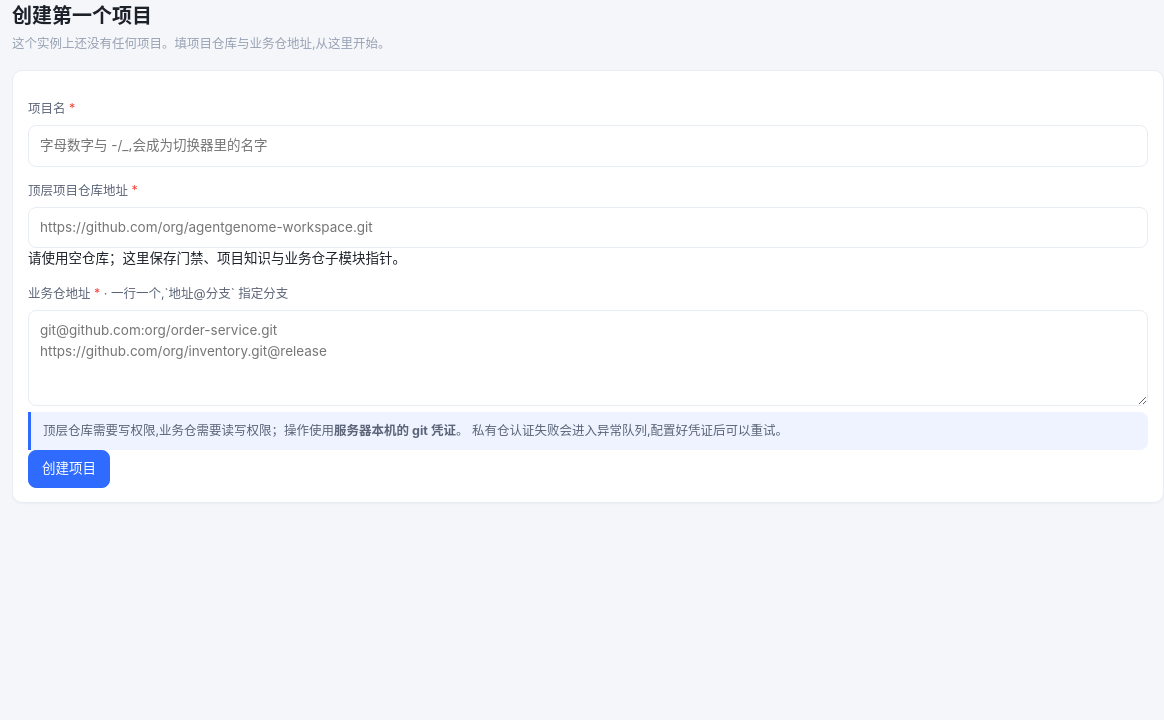
ProjectSetup › refuses locally when no repo is given
Step 1. Type "shop" into the field with placeholder "字母数字与 -/_,会成为切换器里的名字" → (588, 146), box [28,125,1148,167]
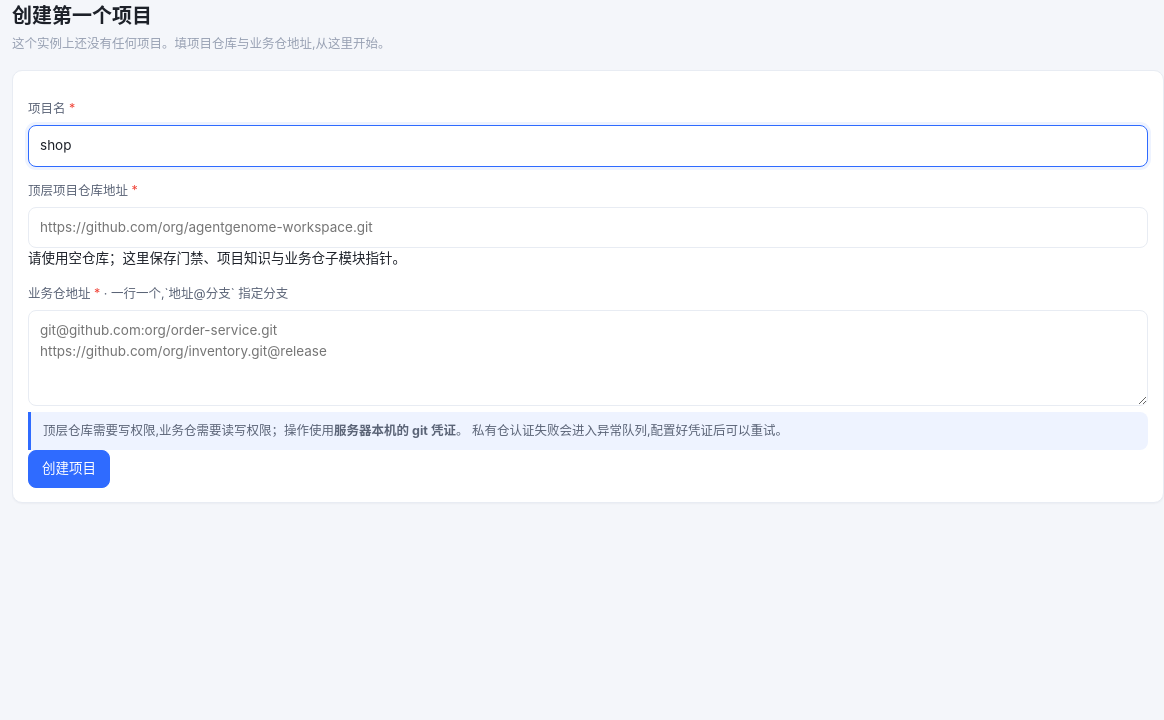
Step 2. Type "https://github.com/acme/shop-workspace.git" into the field with placeholder "https://github.com/org/agentgenome-workspace.git" → (588, 227), box [28,207,1148,248]
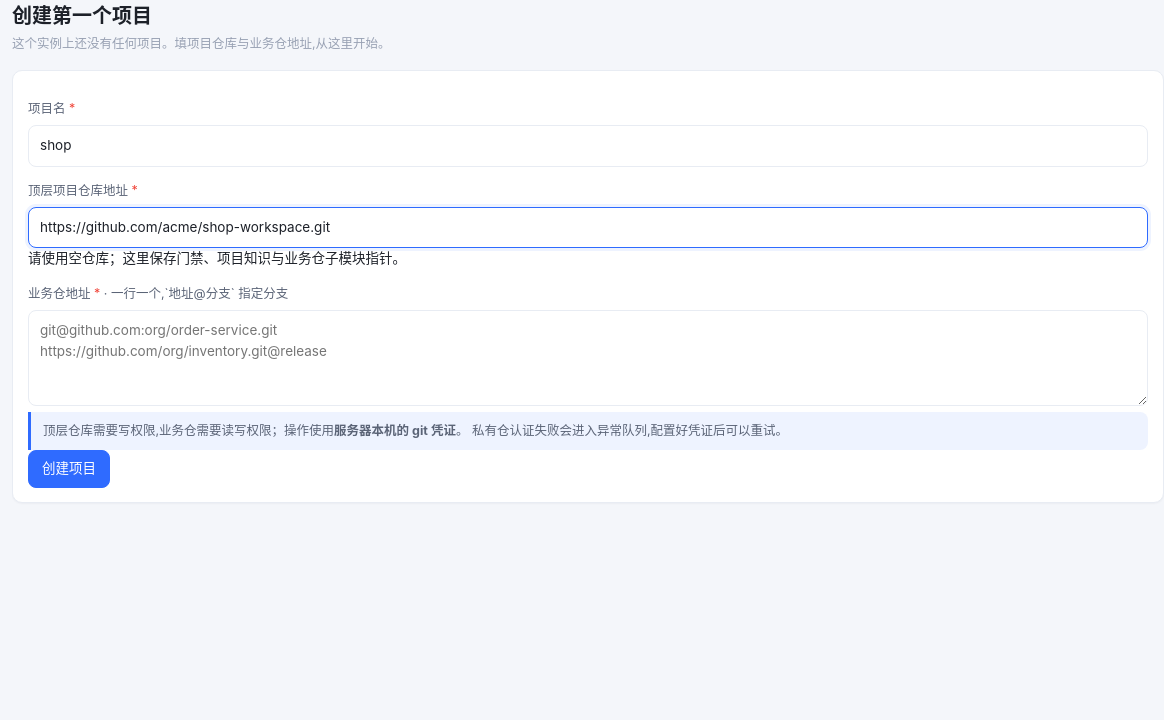
Step 3. Click the button "创建项目" → (69, 469), box [28,450,110,488]
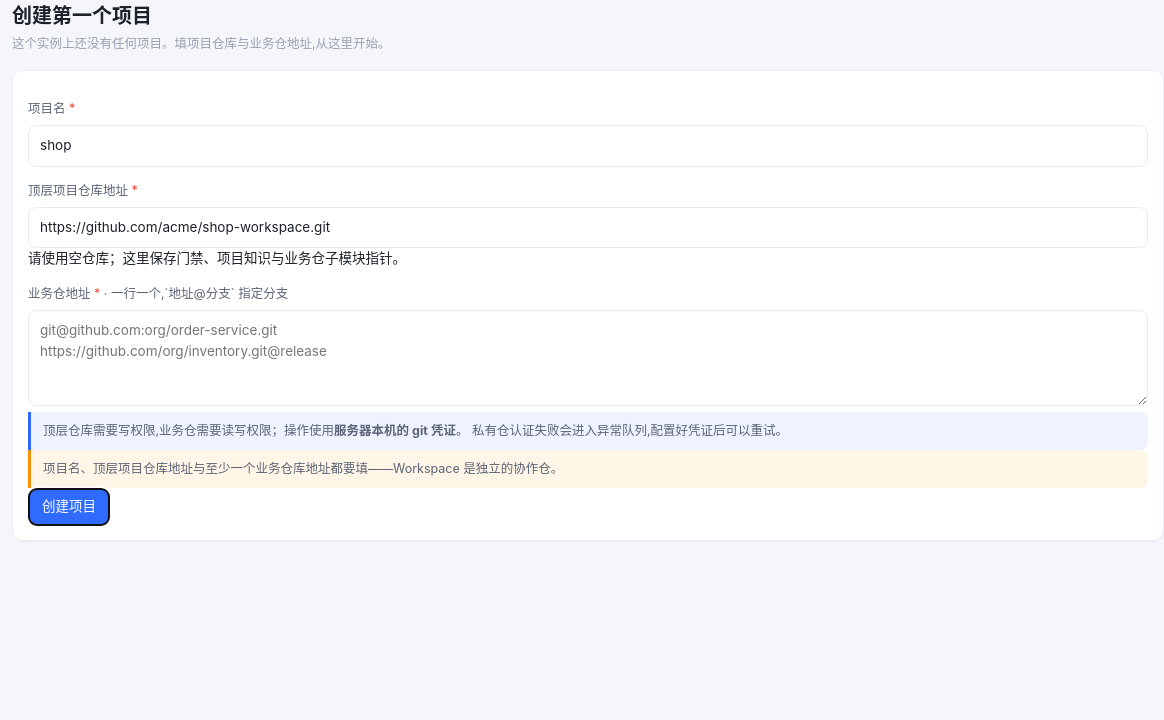
Check: the text "项目名、顶层项目仓库地址与至少一个业务仓库地址都要填——Workspace 是独立的协作仓。" is shown, box [28,450,1148,488]
